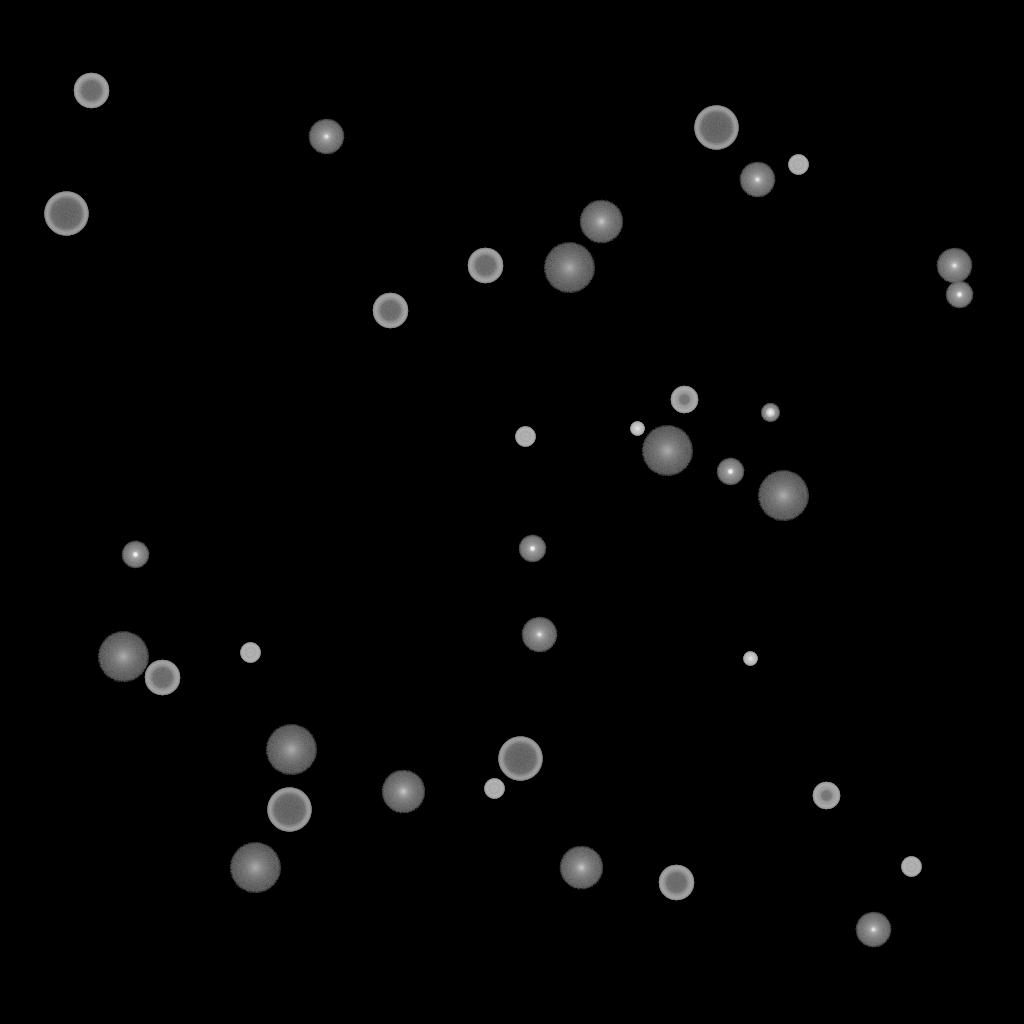depth:-10: (716, 458, 744, 486), (518, 535, 546, 563), (945, 281, 973, 309), (121, 541, 149, 569)
depth:-20: (761, 404, 779, 422)
depth:-30: (630, 422, 644, 436), (743, 652, 757, 666)
depth:-40: (515, 427, 535, 447), (788, 155, 808, 175), (484, 779, 504, 799), (240, 643, 260, 663), (901, 857, 921, 877)
depth:-50: (812, 782, 840, 810), (670, 386, 698, 414)
depth:-60: (467, 248, 503, 284), (73, 73, 109, 109), (658, 865, 694, 901), (372, 293, 408, 329), (144, 660, 180, 696)
depth:-70: (44, 192, 88, 236), (694, 106, 738, 150), (498, 737, 542, 781), (267, 788, 311, 832)
depth:0: (936, 248, 972, 284), (521, 617, 557, 653), (855, 912, 891, 948), (739, 162, 775, 198), (308, 119, 344, 155)
depth:10: (559, 846, 603, 890), (381, 770, 425, 814), (579, 200, 623, 244)
depth:20: (229, 843, 281, 893), (757, 471, 809, 521), (97, 632, 149, 682), (265, 725, 317, 775), (543, 243, 595, 293), (641, 426, 693, 476)
